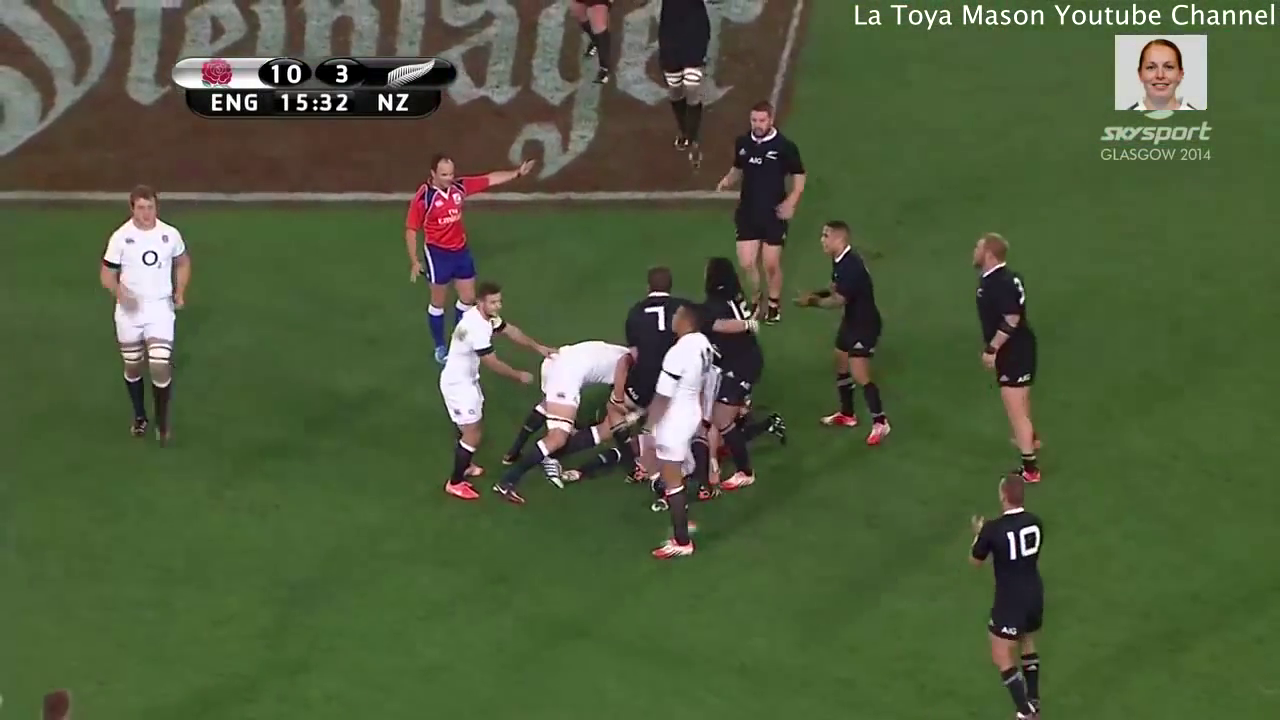player: (957, 223, 1066, 496), (93, 182, 197, 456), (785, 217, 903, 455), (949, 471, 1061, 720), (709, 103, 817, 324), (402, 145, 519, 335), (640, 305, 721, 565), (699, 261, 787, 496), (433, 286, 511, 505), (509, 329, 616, 471), (647, 1, 713, 159)
ruck: (504, 292, 783, 496)
